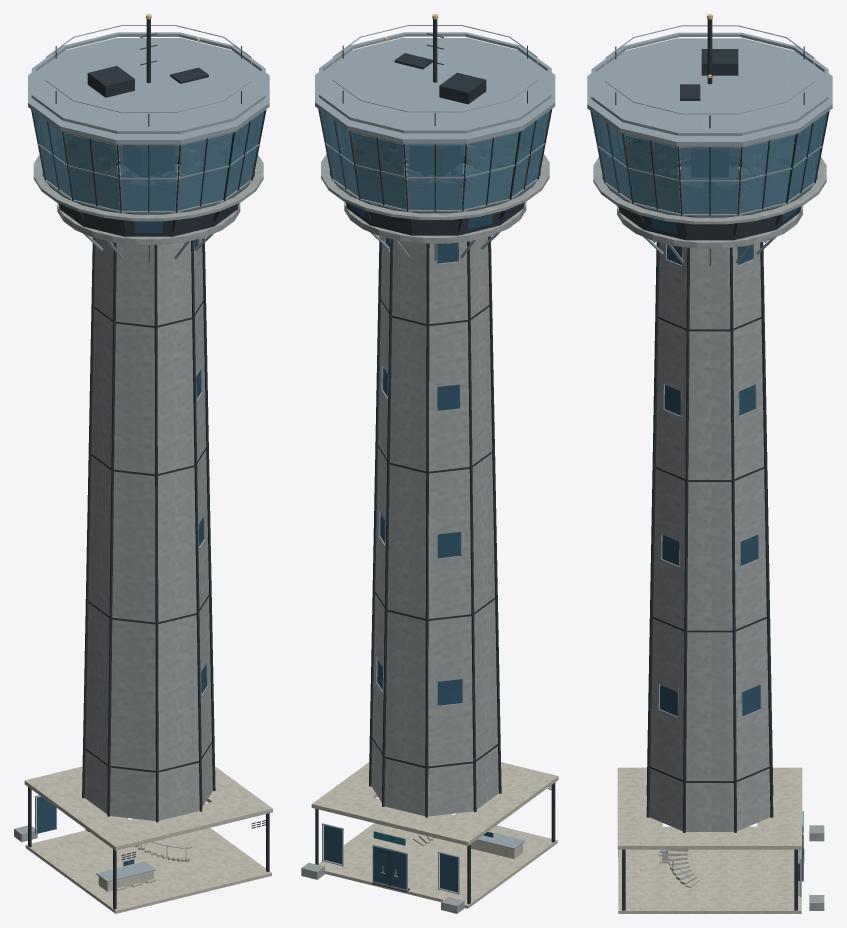
The picture shows the model from 3 angles, left to right: view 1: azimuth 30°, elevation 25°; view 2: azimuth 150°, elevation 25°; view 3: azimuth 270°, elevation 25°; orthographic projection. The views are drawn at different scales.
Visible parts, largest first — view 1: VIS_Tower_Shaft_concrete, VIS_Operations_Crown_metal, VIS_Base_Entry_porcelain, VIS_Crown_Glazing_glass, VIS_Tower_Shaft_charcoal, VIS_Operations_Crown_concrete, VIS_Service_Floor_charcoal, VIS_Rooftop_Comms_charcoal, VIS_Crown_Glazing_charcoal, VIS_Service_Floor_concrete, VIS_Crown_Glazing_metal, VIS_Operations_Crown_interior (+4 smaller); view 2: VIS_Tower_Shaft_concrete, VIS_Operations_Crown_metal, VIS_Base_Entry_porcelain, VIS_Crown_Glazing_glass, VIS_Tower_Shaft_charcoal, VIS_Tower_Shaft_darkglass, VIS_Operations_Crown_concrete, VIS_Service_Floor_charcoal, VIS_Rooftop_Comms_charcoal, VIS_Crown_Glazing_charcoal, VIS_Service_Floor_concrete, VIS_Base_Entry_darkglass (+9 smaller); view 3: VIS_Tower_Shaft_concrete, VIS_Operations_Crown_metal, VIS_Base_Entry_porcelain, VIS_Crown_Glazing_glass, VIS_Tower_Shaft_charcoal, VIS_Tower_Shaft_darkglass, VIS_Operations_Crown_concrete, VIS_Service_Floor_charcoal, VIS_Crown_Glazing_charcoal, VIS_Rooftop_Comms_charcoal, VIS_Service_Floor_concrete, VIS_Crown_Glazing_metal (+5 smaller).
Boxes of the visible parts, x1,y1,x2,y2 form: VIS_Tower_Shaft_concrete: [84, 238, 212, 820]; VIS_Operations_Crown_metal: [28, 32, 269, 193]; VIS_Base_Entry_porcelain: [24, 766, 272, 913]; VIS_Crown_Glazing_glass: [33, 111, 264, 210]; VIS_Tower_Shaft_charcoal: [82, 237, 215, 822]; VIS_Operations_Crown_concrete: [33, 154, 263, 221]; VIS_Service_Floor_charcoal: [59, 161, 238, 236]; VIS_Rooftop_Comms_charcoal: [55, 19, 241, 126]; VIS_Crown_Glazing_charcoal: [31, 109, 266, 212]; VIS_Service_Floor_concrete: [57, 164, 240, 244]; VIS_Crown_Glazing_metal: [38, 131, 259, 213]; VIS_Operations_Crown_interior: [42, 136, 254, 214]; VIS_Tower_Shaft_concrete: [371, 237, 498, 816]; VIS_Operations_Crown_metal: [315, 32, 555, 192]; VIS_Base_Entry_porcelain: [311, 762, 558, 908]; VIS_Crown_Glazing_glass: [320, 110, 550, 209]; VIS_Tower_Shaft_charcoal: [369, 236, 501, 817]; VIS_Tower_Shaft_darkglass: [377, 238, 462, 705]; VIS_Operations_Crown_concrete: [321, 153, 549, 219]; VIS_Service_Floor_charcoal: [346, 160, 524, 235]; VIS_Rooftop_Comms_charcoal: [342, 19, 527, 125]; VIS_Crown_Glazing_charcoal: [318, 109, 552, 211]; VIS_Service_Floor_concrete: [344, 163, 526, 243]; VIS_Base_Entry_darkglass: [324, 825, 493, 892]; VIS_Tower_Shaft_concrete: [649, 242, 770, 831]; VIS_Operations_Crown_metal: [587, 32, 832, 182]; VIS_Base_Entry_porcelain: [617, 767, 802, 913]; VIS_Crown_Glazing_glass: [592, 112, 827, 213]; VIS_Tower_Shaft_charcoal: [646, 242, 773, 832]; VIS_Tower_Shaft_darkglass: [659, 244, 760, 715]; VIS_Operations_Crown_concrete: [593, 157, 826, 224]; VIS_Service_Floor_charcoal: [619, 163, 800, 240]; VIS_Crown_Glazing_charcoal: [590, 111, 829, 215]; VIS_Rooftop_Comms_charcoal: [615, 19, 804, 128]; VIS_Service_Floor_concrete: [617, 166, 802, 248]; VIS_Crown_Glazing_metal: [597, 132, 822, 216].
Size of the model in its own units: 16.09 by 62.18 by 16.09.
Materials: 10 (10 with a texture image).
